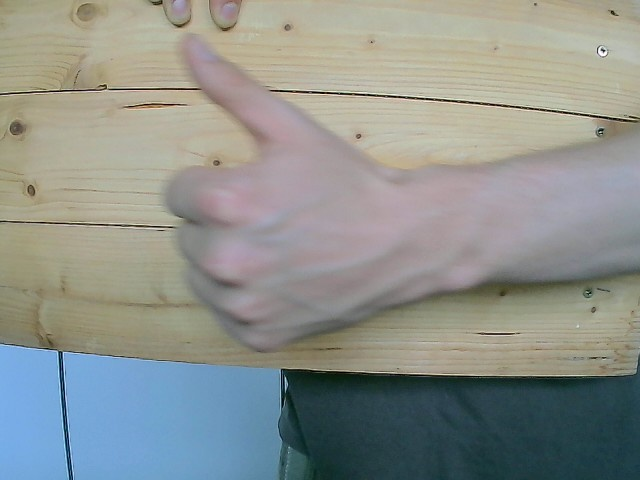up: (162, 31, 412, 353)
